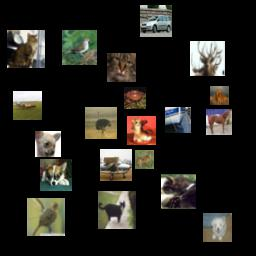airplane: (100, 149, 132, 181), (13, 91, 42, 120)
automobile: (140, 5, 172, 37)
bird: (27, 198, 65, 236), (62, 30, 97, 65), (85, 107, 117, 139)
cat: (98, 191, 136, 229), (7, 30, 45, 68), (161, 174, 196, 209), (107, 53, 136, 82)
deer: (190, 41, 225, 76), (135, 150, 154, 169)
dog: (40, 159, 72, 191), (127, 116, 156, 145), (203, 213, 232, 242), (35, 131, 61, 157), (210, 86, 229, 105)
frog: (124, 87, 146, 109)
ship: (165, 107, 191, 133)
